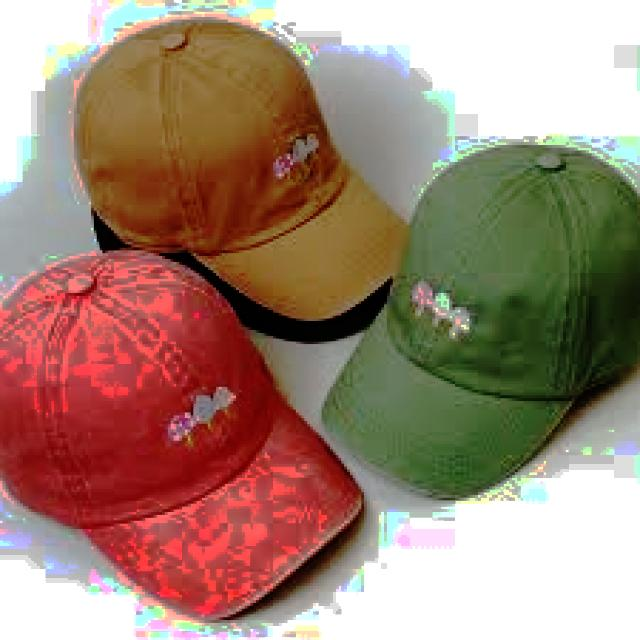TOPI: (0, 245, 364, 620), (319, 133, 634, 500), (68, 17, 407, 321), (82, 196, 392, 342)
